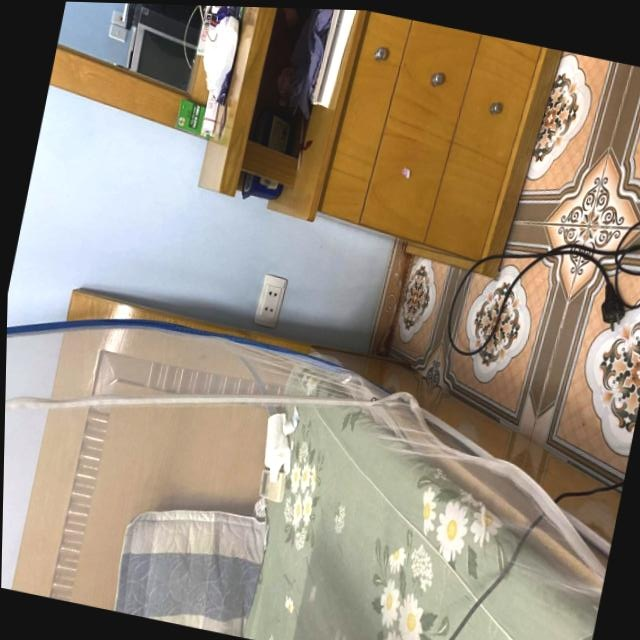outlet: (252, 273, 287, 330)
